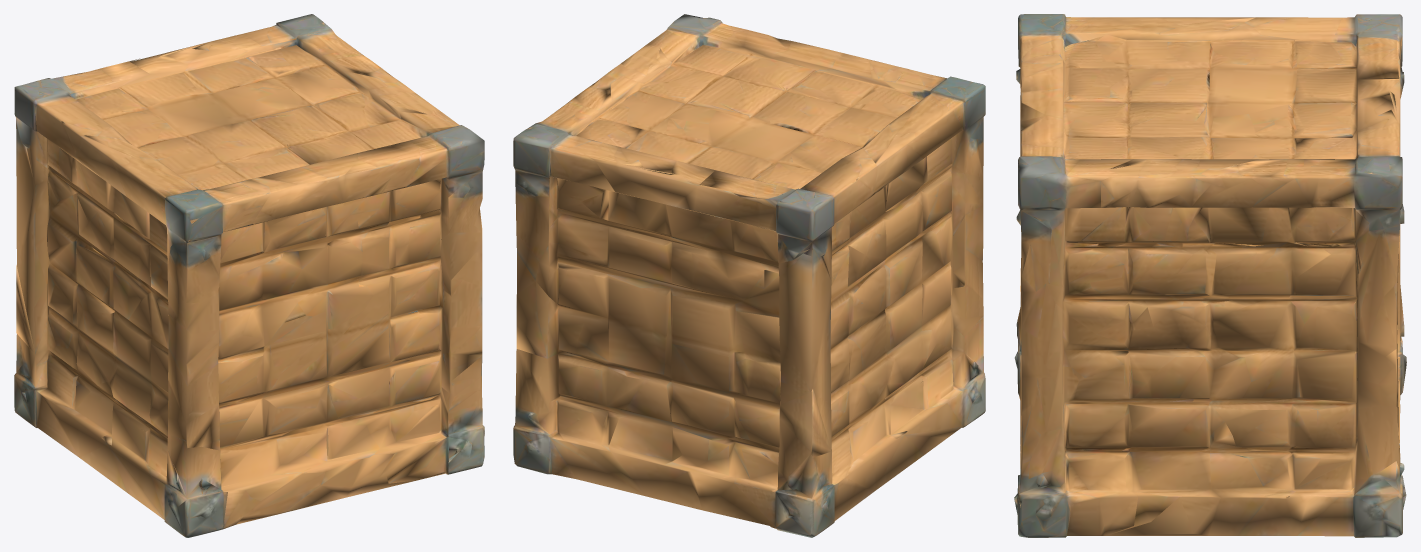
The model's file is prop-crate.glb.
3 views of the same model, side by side, from view 1: azimuth 30°, elevation 25°; view 2: azimuth 150°, elevation 25°; view 3: azimuth 270°, elevation 25° (orthographic). The views are drawn at different scales.
Bounding box in the file's own units: 1.85 × 1.91 × 1.85.
Materials: 1 (1 with a texture image).
